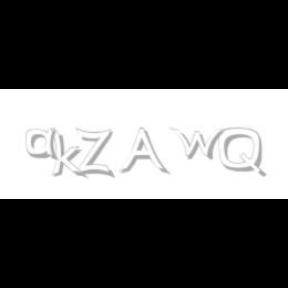A: (119, 128, 167, 176)
Q: (218, 128, 264, 178)
Z: (76, 128, 112, 178)
a: (26, 128, 62, 160)
k: (50, 128, 88, 180)
w: (170, 128, 228, 160)
